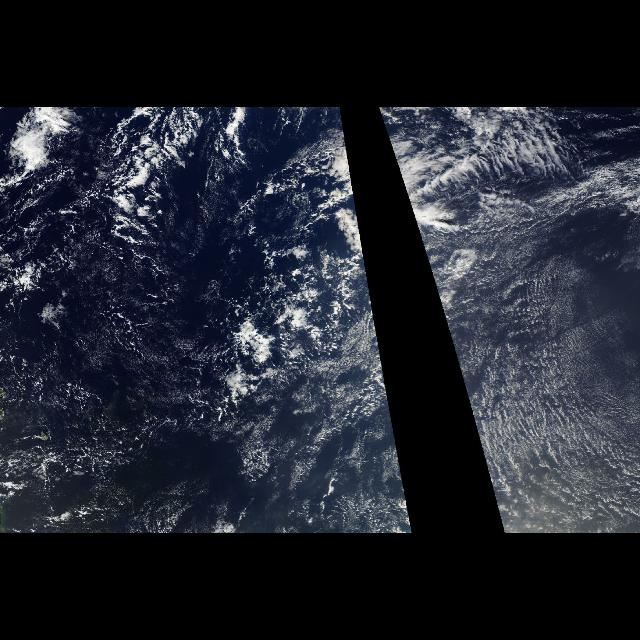Fish: (378, 111, 602, 416), (205, 111, 392, 416)
Gravel: (0, 116, 182, 472)
Sugar: (426, 233, 640, 527), (398, 458, 412, 524)
